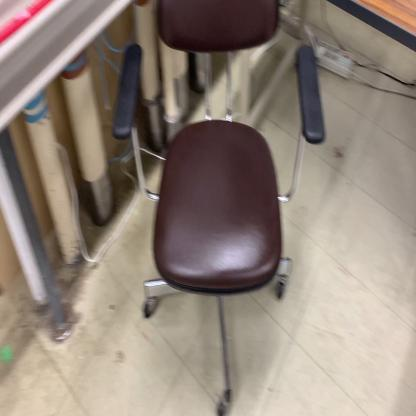chair: (109, 0, 327, 412)
